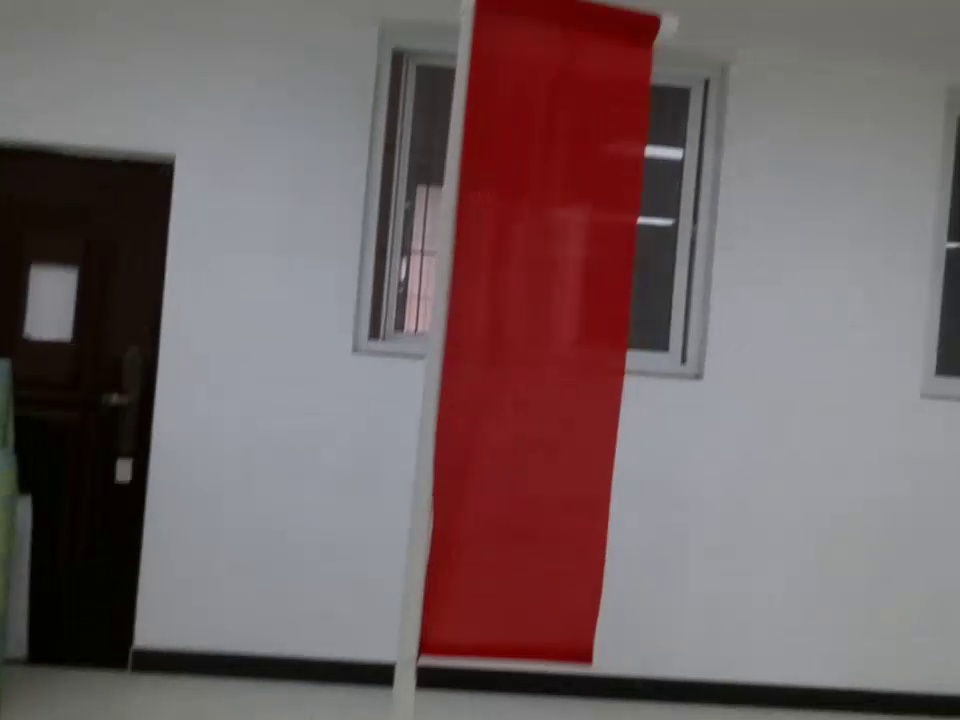qi: (403, 1, 676, 691)
